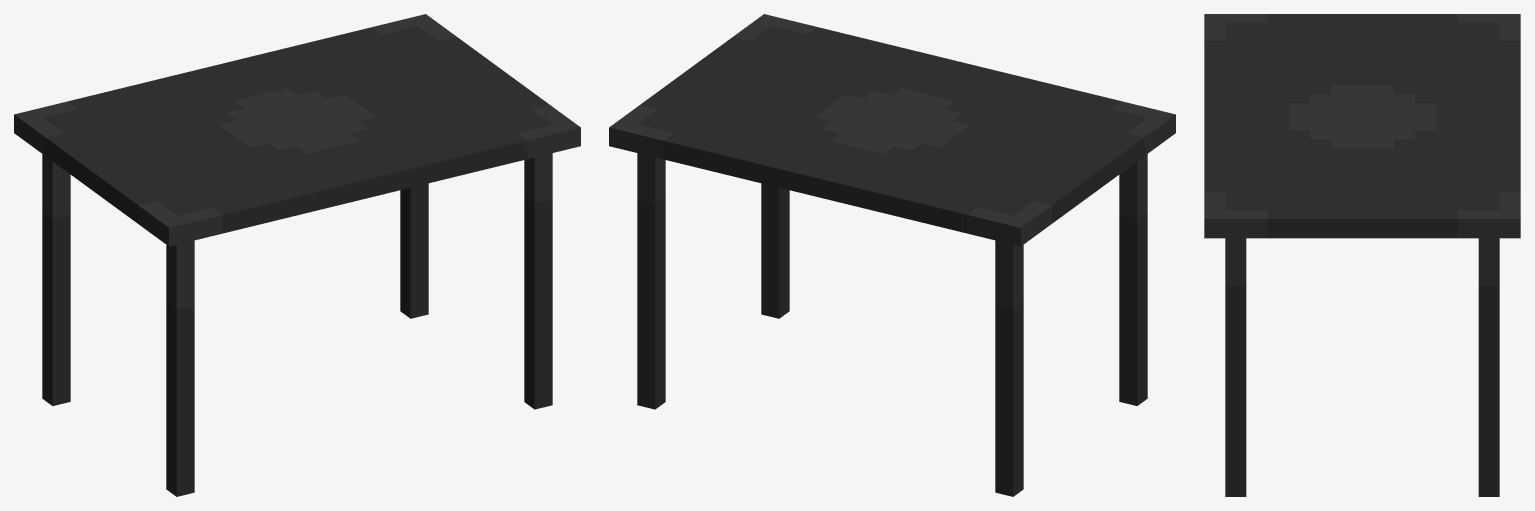
The model's file is Decor-79.obj.
3 renders of one model, left to right at view 1: azimuth 30°, elevation 25°; view 2: azimuth 150°, elevation 25°; view 3: azimuth 270°, elevation 25°, orthographic. The views are drawn at different scales.
Size of the model in its own units: 2.3 by 1.5 by 1.5.
Materials: 1 (1 with a texture image).
